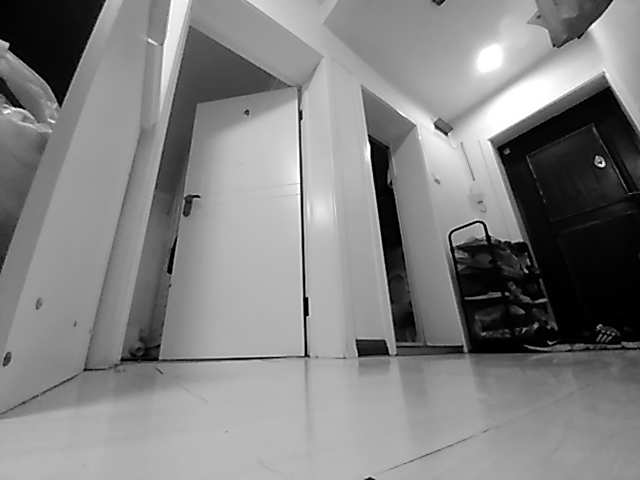shoe: (589, 323, 640, 349), (522, 325, 571, 351)
